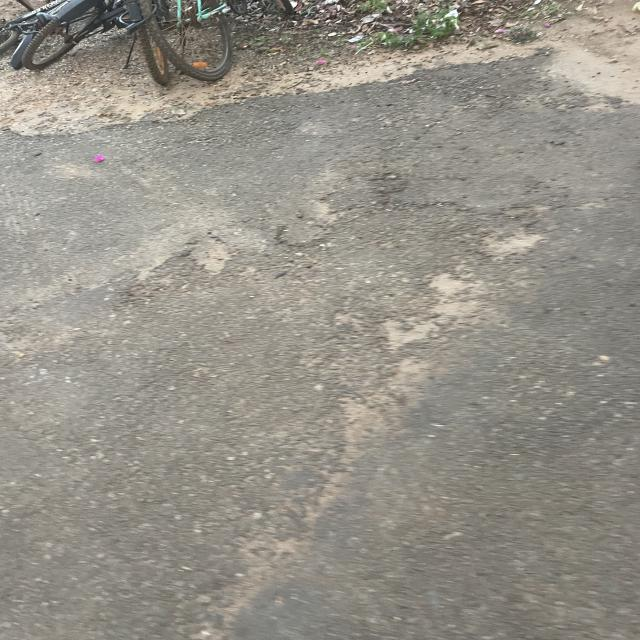D43: (82, 176, 561, 640)
